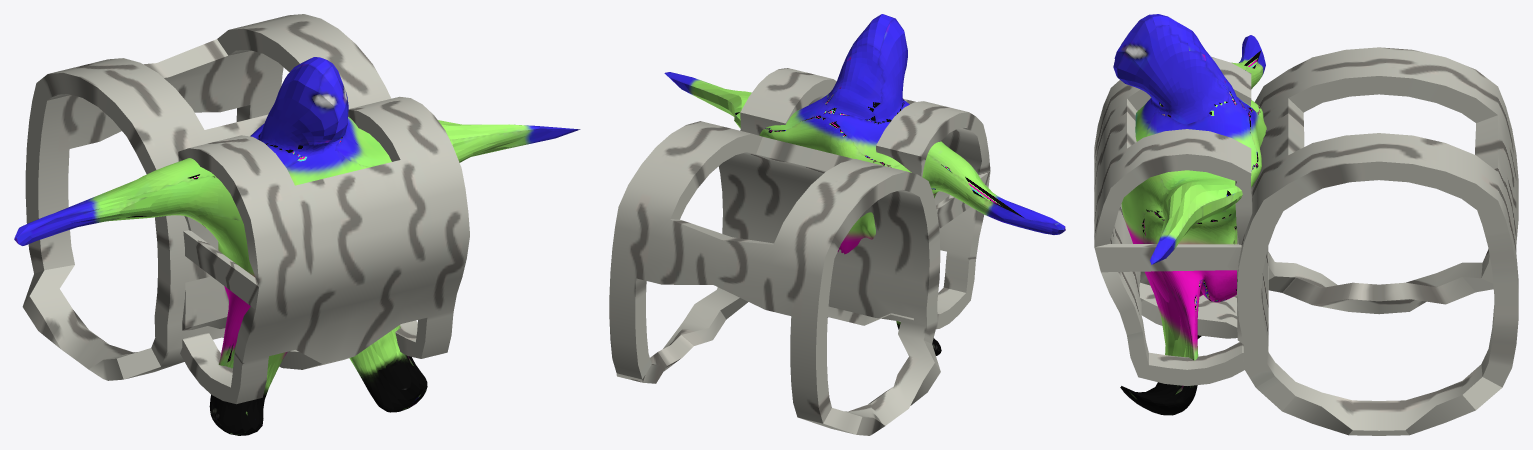
File: item-superbob.glb
3 renders of one model, left to right at view 1: azimuth 30°, elevation 25°; view 2: azimuth 150°, elevation 25°; view 3: azimuth 270°, elevation 25°, orthographic. The views are drawn at different scales.
Bounding box in the file's own units: 1.52 × 1.04 × 1.12.
Materials: 2 (2 with a texture image).
